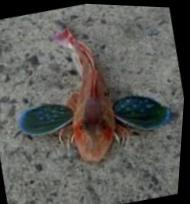fish: (19, 26, 173, 163)
